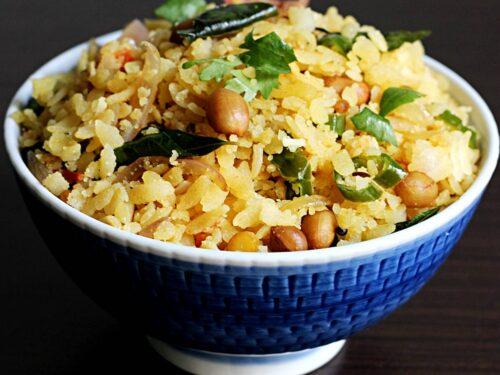poha: (16, 0, 500, 255)
